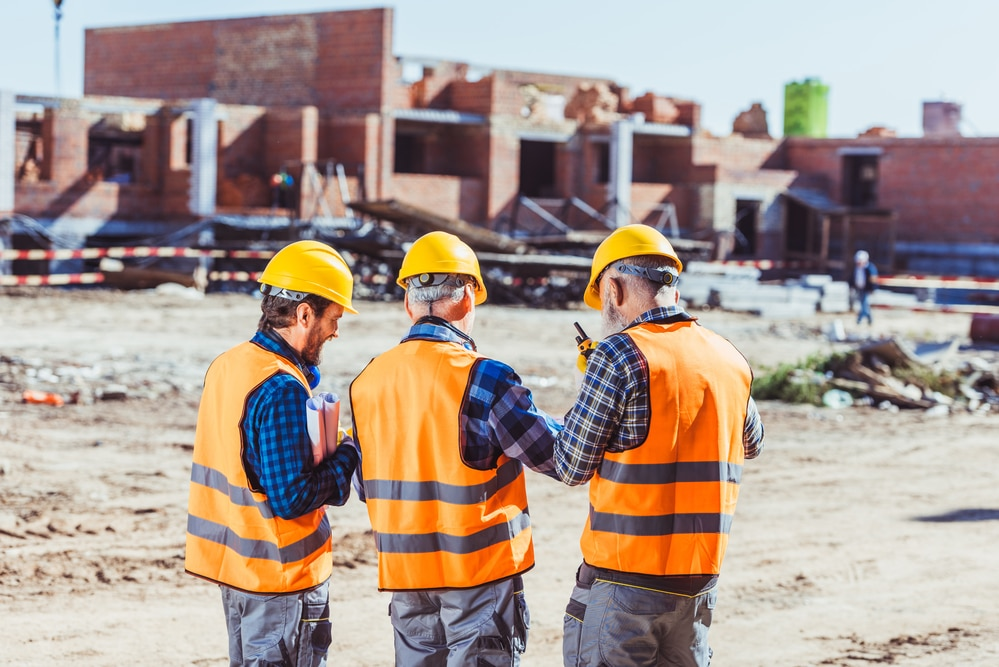With Helmet: (256, 232, 359, 365), (580, 222, 694, 324), (395, 232, 492, 337)
